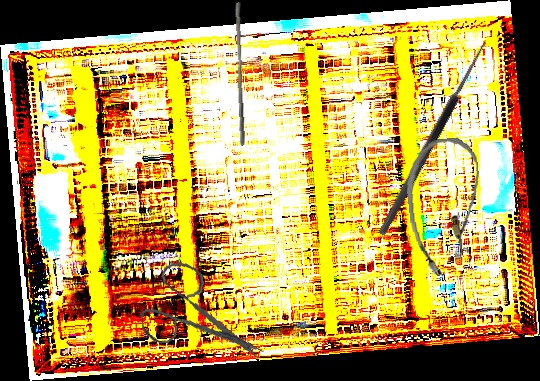Cannula: (402, 135, 489, 278)
Hook Surgical: (367, 32, 491, 238)
Iris Scissors: (134, 252, 265, 376)
Pusher: (230, 2, 251, 146)
